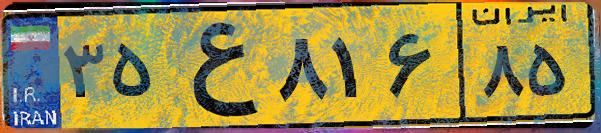1: (330, 28, 385, 110)
3: (57, 26, 110, 100)
5: (525, 38, 570, 115), (110, 28, 158, 98)
6: (385, 28, 445, 110)
8: (270, 28, 330, 110), (475, 38, 525, 113)
ع: (158, 12, 270, 120)
